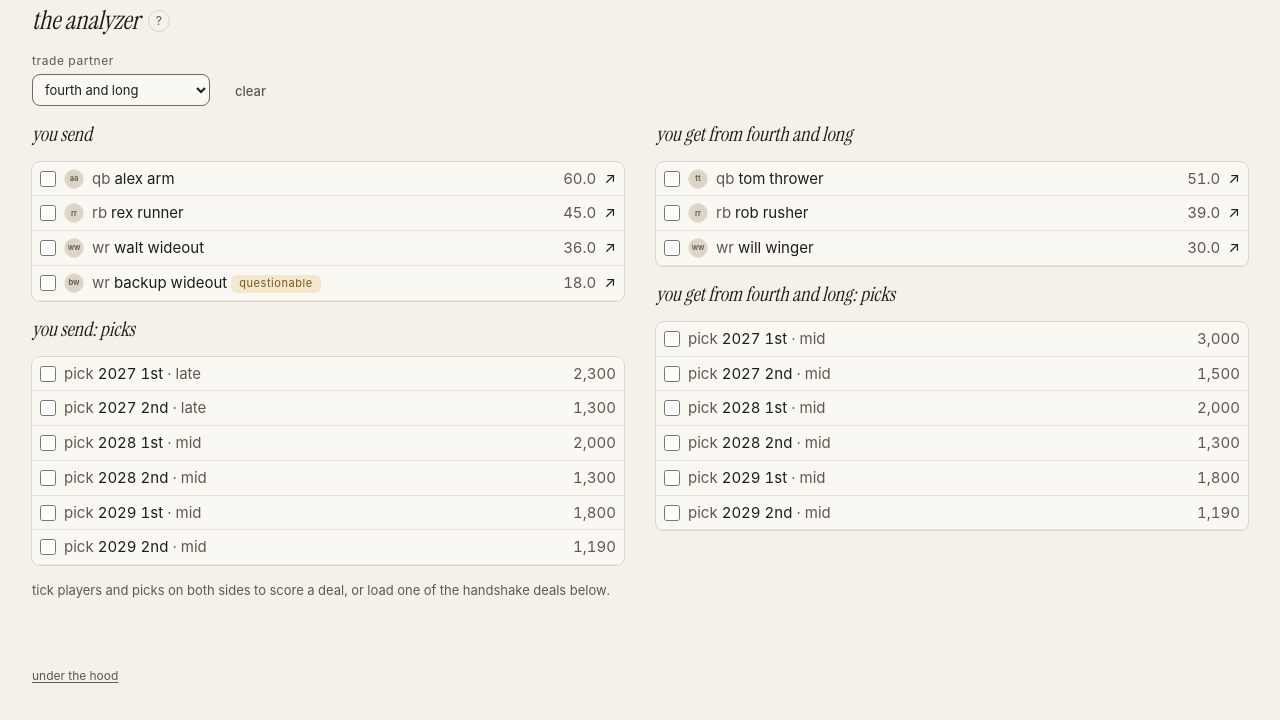
Test: dynasty mode in a dynasty league › a deal of picks alone scores value and leaves the lineup untouched
(page scrolled)
Click the checkbox named "you send: picks: 2028 1st".
click(48, 443)  # box [40, 435, 56, 451]
(page scrolled)
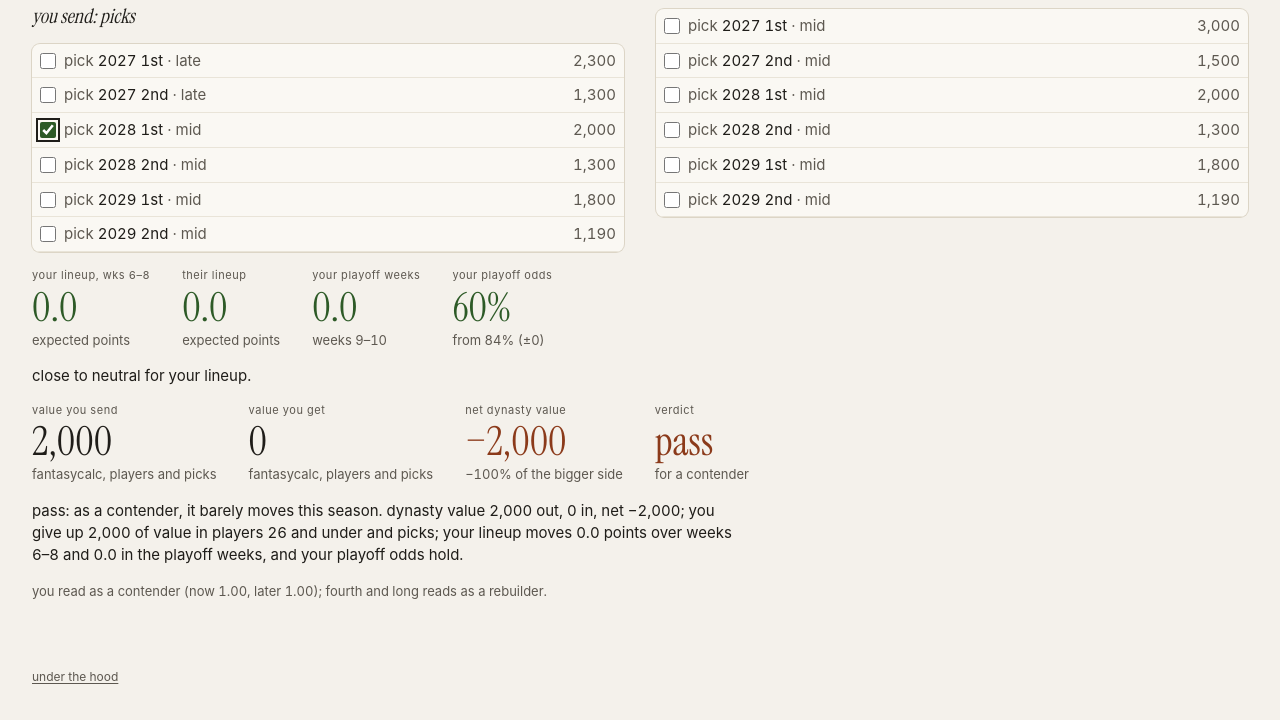
Expected: the text "your lineup, wks 6–8" is shown, [32, 268, 150, 282]
Expected: the text "Close to neutral for your lineup." is shown, [32, 366, 251, 385]
Expected: the text "2,000" below "value you send" is shown, [32, 415, 112, 467]
